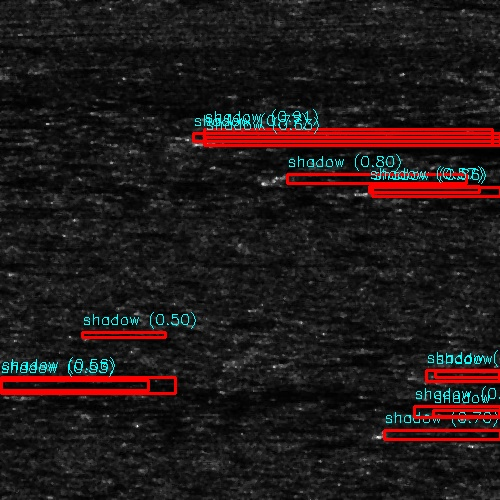rock: (351, 426, 466, 439), (356, 369, 481, 380), (263, 170, 326, 183), (329, 187, 412, 196), (0, 384, 22, 389), (463, 440, 494, 443)
shadow: (295, 170, 500, 183), (2, 384, 348, 389), (409, 426, 500, 439), (371, 187, 500, 196), (419, 369, 500, 380), (0, 207, 45, 210)
